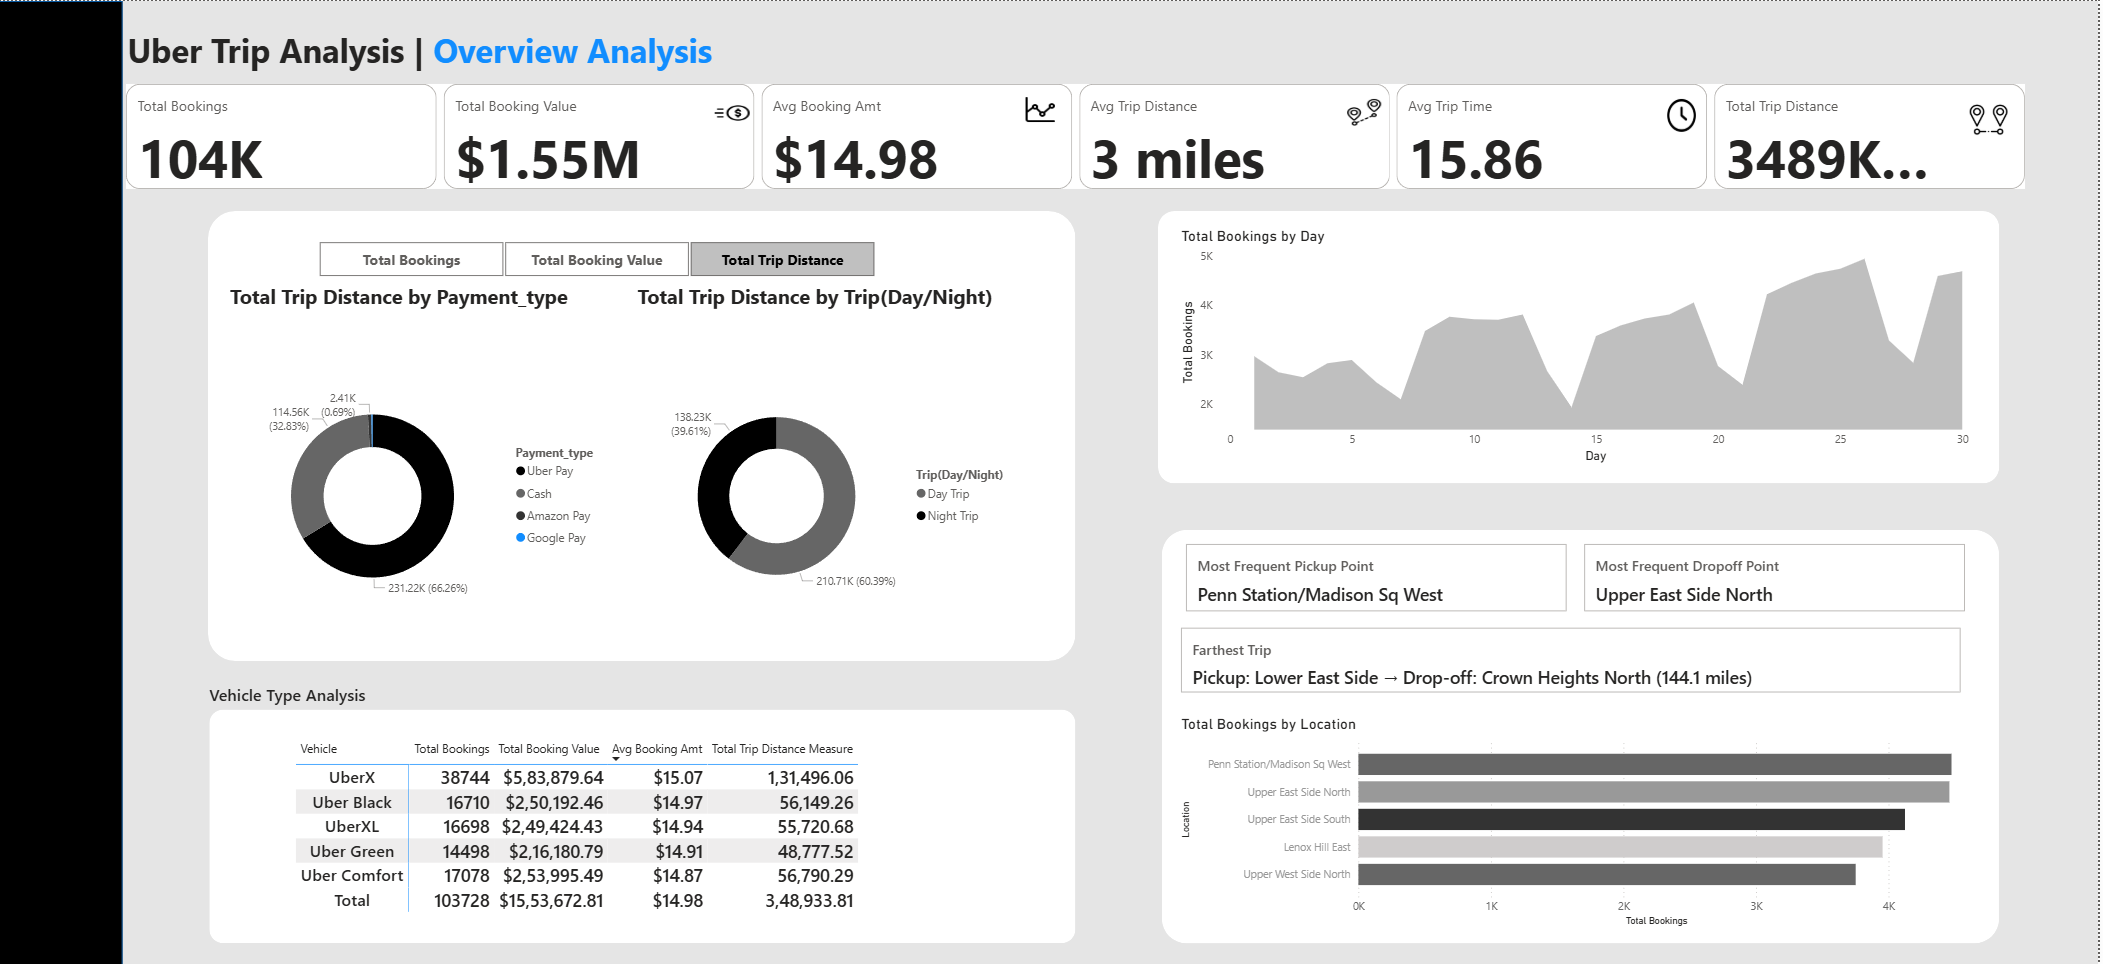

The page's visual inventory and layout, read from the dashboard file:
{"tool":"powerbi","page":{"name":"Page 1","canvas":[2400,1100],"ordinal":0},"visuals":[{"type":"shape","box":[0,0,142.3,1199.7],"z":0},{"type":"textbox","box":[142.3,25,863.4,65.7],"z":1000},{"type":"cardVisual","fields":{"Data":["Trip Details.Total Bookings","Trip Details.Total Booking Value","Trip Details.Avg Booking Amt","Trip Details.Avg Trip Distance","Trip Details.Avg Trip Time","Trip Details.Total Trip Distance"]},"box":[141.4,90,2180,130],"z":2000},{"type":"image","box":[814.9,109.5,50,36],"z":3000},{"type":"image","box":[1537.1,107.1,51.4,40],"z":4000},{"type":"image","box":[2248.6,110,52.9,51.4],"z":5000},{"type":"image","box":[1167.1,102.9,48.6,42.9],"z":6000},{"type":"shape","box":[240,240,991.4,514.3],"z":7000},{"type":"image","box":[1902.9,107.1,42.9,47.1],"z":8000},{"type":"slicer","fields":{"Values":["Dynamic Measure.Dynamic Measure"]},"box":[341.4,268.6,684.3,52.9],"z":9000},{"type":"donutChart","fields":{"Y":["Trip Details.Total Trip Distance Measure"],"Category":["Trip Details.Payment_type"]},"box":[260,321.4,441.4,458.6],"z":10000},{"type":"donutChart","fields":{"Y":["Trip Details.Total Trip Distance Measure"],"Category":["Trip Details.Trip Type (Day/Night)"]},"box":[725.7,321.4,441.4,458.6],"z":11000},{"type":"shape","title":"Vehicle Type Analysis","box":[241.4,780,990,297.1],"z":12000},{"type":"pivotTable","fields":{"Rows":["Trip Details.Vehicle"],"Values":["Trip Details.Total Bookings","Trip Details.Total Booking Value","Trip Details.Avg Booking Amt","Trip Details.Total Trip Distance Measure"]},"box":[335.7,838.6,841.4,224.3],"z":13000},{"type":"shape","box":[1325.7,240,961.4,311.4],"z":14000},{"type":"areaChart","fields":{"Category":["Calendar Table.Date.Variation.Date Hierarchy.Day"],"Y":["Trip Details.Total Bookings"]},"box":[1347.1,258.6,912.9,274.3],"z":15000},{"type":"shape","box":[1330,604.3,957.1,472.9],"z":15001},{"type":"cardVisual","fields":{"Data":["Trip Details.Most Frequent Pickup Point","Trip Details.Most Frequent Dropoff Point"]},"box":[1352.9,615.7,901.4,87.1],"z":15002},{"type":"cardVisual","fields":{"Data":["Trip Details.Farthest Trip"]},"box":[1347.1,711.4,901.4,84.3],"z":15003},{"type":"barChart","fields":{"Category":["Location Table.Location"],"Y":["Trip Details.Total Bookings"]},"box":[1347.1,815.7,901.4,247.1],"z":15004}]}

Visuals, with their boxes in screenshot pixels (x1, y1, x2, y2), scaled from the page's 2400x1100 canvas onto the 2103x964 screenshot:
shape: (0, 0, 125, 963)
textbox: (125, 22, 881, 79)
cardVisual - Trip Details.Total Bookings x Trip Details.Total Booking Value: (124, 79, 2034, 193)
image: (714, 96, 758, 128)
image: (1347, 94, 1392, 129)
image: (1970, 96, 2017, 141)
image: (1023, 90, 1065, 128)
shape: (210, 210, 1079, 661)
image: (1667, 94, 1705, 135)
slicer - Dynamic Measure.Dynamic Measure: (299, 235, 899, 282)
donutChart - Trip Details.Total Trip Distance Measure x Trip Details.Payment_type: (228, 282, 615, 684)
donutChart - Trip Details.Total Trip Distance Measure x Trip Details.Trip Type (Day/Night): (636, 282, 1023, 684)
"Vehicle Type Analysis" shape: (212, 684, 1079, 944)
pivotTable - Trip Details.Vehicle x Trip Details.Total Bookings: (294, 735, 1031, 931)
shape: (1162, 210, 2004, 483)
areaChart - Calendar Table.Date.Variation.Date Hierarchy.Day x Trip Details.Total Bookings: (1180, 227, 1980, 467)
shape: (1165, 530, 2004, 944)
cardVisual - Trip Details.Most Frequent Pickup Point x Trip Details.Most Frequent Dropoff Point: (1185, 540, 1975, 616)
cardVisual - Trip Details.Farthest Trip: (1180, 623, 1970, 697)
barChart - Location Table.Location x Trip Details.Total Bookings: (1180, 715, 1970, 931)
